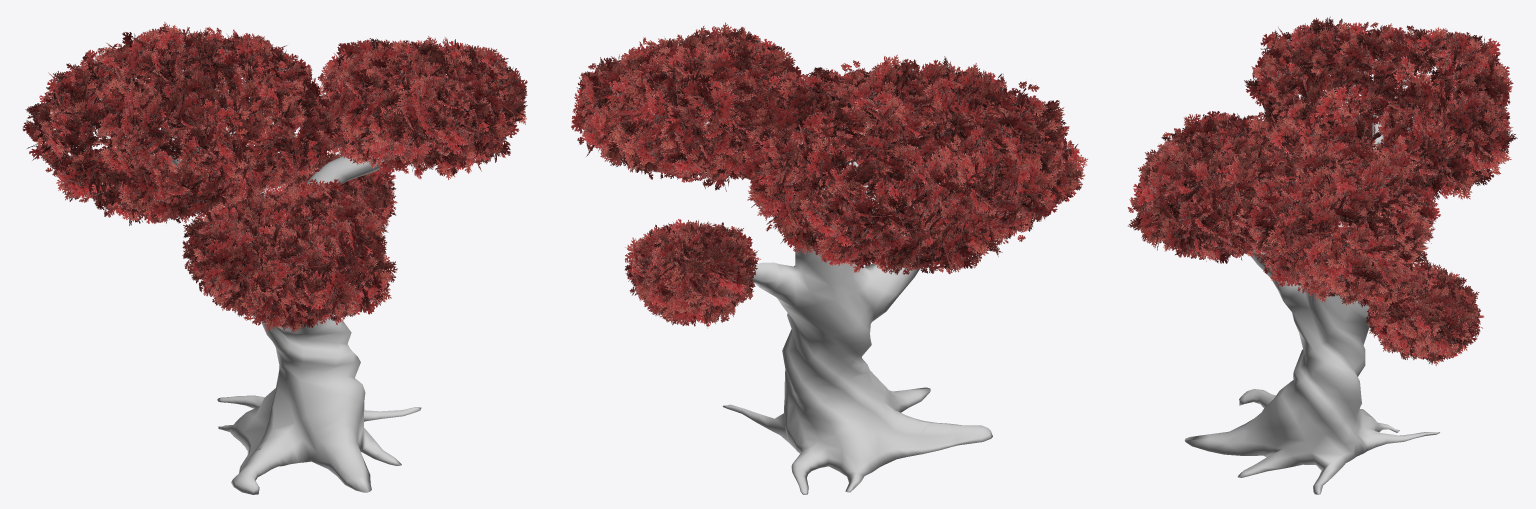
File: Tree.fbx
3 renders of one model, left to right at view 1: azimuth 30°, elevation 25°; view 2: azimuth 150°, elevation 25°; view 3: azimuth 270°, elevation 25°, orthographic. The views are drawn at different scales.
Visible parts, largest first — view 1: Plane; view 2: Plane; view 3: Plane.
Boxes of the visible parts, x1,y1,x2,y2 form: Plane: [22, 22, 527, 494]; Plane: [571, 22, 1087, 494]; Plane: [1127, 16, 1517, 494].
Size of the model in its own units: 947 by 801 by 742.
